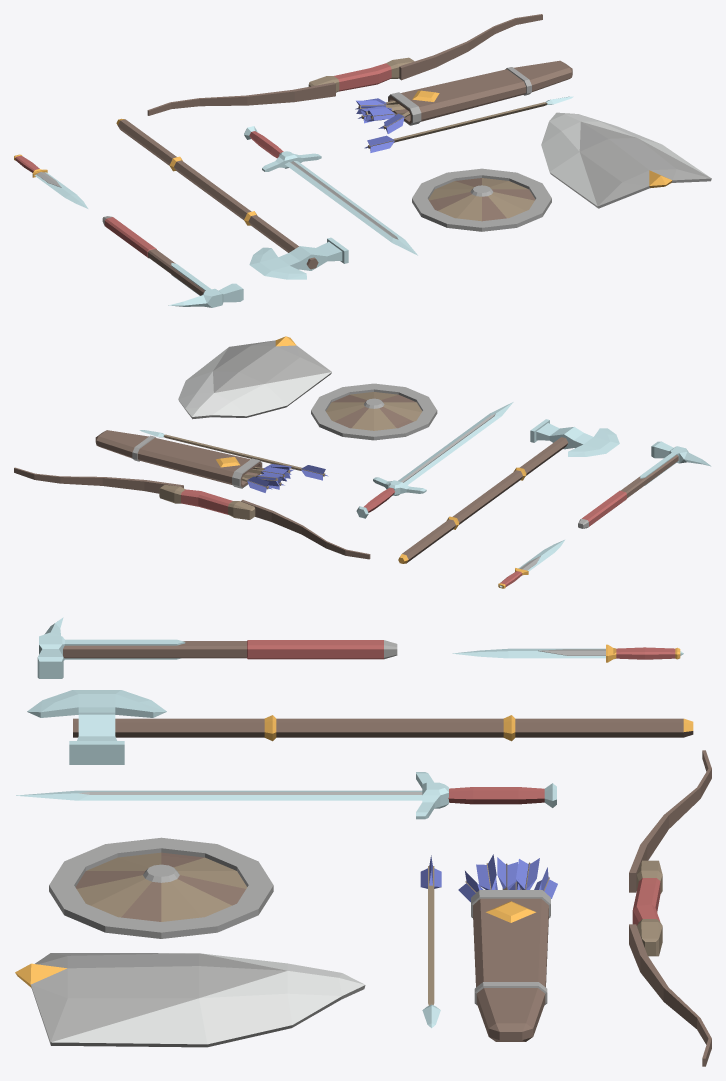
3 renders of one model, top to bottom at view 1: azimuth 30°, elevation 25°; view 2: azimuth 150°, elevation 25°; view 3: azimuth 270°, elevation 25°, orthographic. The views are drawn at different scales.
Visible parts, largest first — view 1: hshield, lshield, quiver_Material #2_0, ax_Material #2_0, bow_Material #2_0, sword, warhammer_Material #2_0, arrow_Material #2_0, knife; view 2: hshield, lshield, quiver_Material #2_0, bow_Material #2_0, ax_Material #2_0, sword, warhammer_Material #2_0, arrow_Material #2_0, knife; view 3: hshield, lshield, ax_Material #2_0, quiver_Material #2_0, warhammer_Material #2_0, sword, bow_Material #2_0, knife, arrow_Material #2_0.
Boxes of the visible parts, x1,y1,x2,y2 form: hshield: [541, 112, 711, 208]; lshield: [412, 168, 551, 231]; quiver_Material #2_0: [355, 60, 572, 133]; ax_Material #2_0: [116, 118, 348, 279]; bow_Material #2_0: [147, 14, 542, 115]; sword: [244, 126, 417, 255]; warhammer_Material #2_0: [102, 216, 243, 307]; arrow_Material #2_0: [364, 96, 573, 152]; knife: [14, 154, 88, 208]; hshield: [178, 336, 331, 419]; lshield: [311, 383, 437, 440]; quiver_Material #2_0: [95, 430, 293, 492]; bow_Material #2_0: [14, 467, 370, 559]; ax_Material #2_0: [398, 419, 619, 563]; sword: [356, 402, 513, 518]; warhammer_Material #2_0: [578, 441, 711, 528]; arrow_Material #2_0: [139, 430, 328, 480]; knife: [498, 539, 565, 588]; hshield: [15, 953, 365, 1047]; lshield: [49, 837, 273, 938]; ax_Material #2_0: [27, 690, 693, 764]; quiver_Material #2_0: [458, 854, 557, 1041]; warhammer_Material #2_0: [37, 617, 397, 678]; sword: [16, 772, 556, 819]; bow_Material #2_0: [629, 750, 711, 1066]; knife: [452, 644, 683, 662]; arrow_Material #2_0: [420, 855, 441, 1028].
Size of the model in its own units: 129 by 5.56 by 85.04.
Materials: 1 (1 with a texture image).
